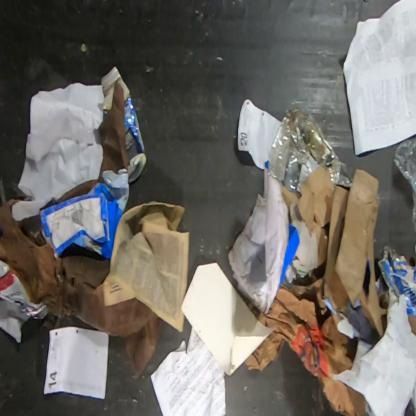cardboard: (282, 166, 383, 345), (40, 168, 130, 260), (407, 313, 416, 338)
metal: (101, 66, 146, 184)
rigid_plastic: (267, 100, 352, 198)
soft_plastic: (393, 138, 415, 234)
